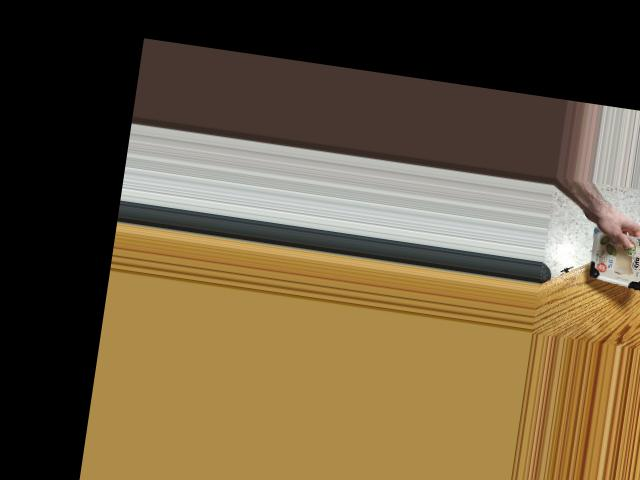cheese: (578, 226, 640, 287)
